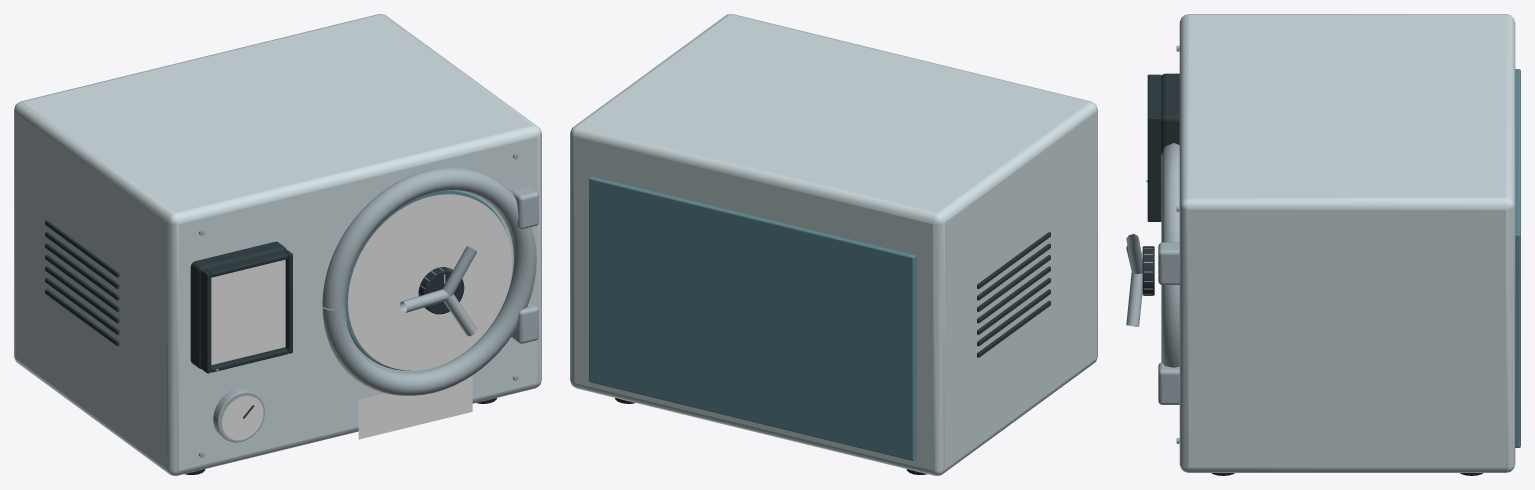
Rendered from ID_BenchAutoclave.fbx.
3 views of the same model, side by side, from view 1: azimuth 30°, elevation 25°; view 2: azimuth 150°, elevation 25°; view 3: azimuth 270°, elevation 25° (orthographic). The views are drawn at different scales.
Visible parts, largest first — view 1: ID_BenchAutoclave; view 2: ID_BenchAutoclave; view 3: ID_BenchAutoclave.
Part boxes in pixels (x1,y1,x2,y2): ID_BenchAutoclave: [14, 14, 541, 475]; ID_BenchAutoclave: [570, 14, 1097, 475]; ID_BenchAutoclave: [1126, 14, 1520, 475].
Size of the model in its own units: 82.5 by 58 by 71.69.
